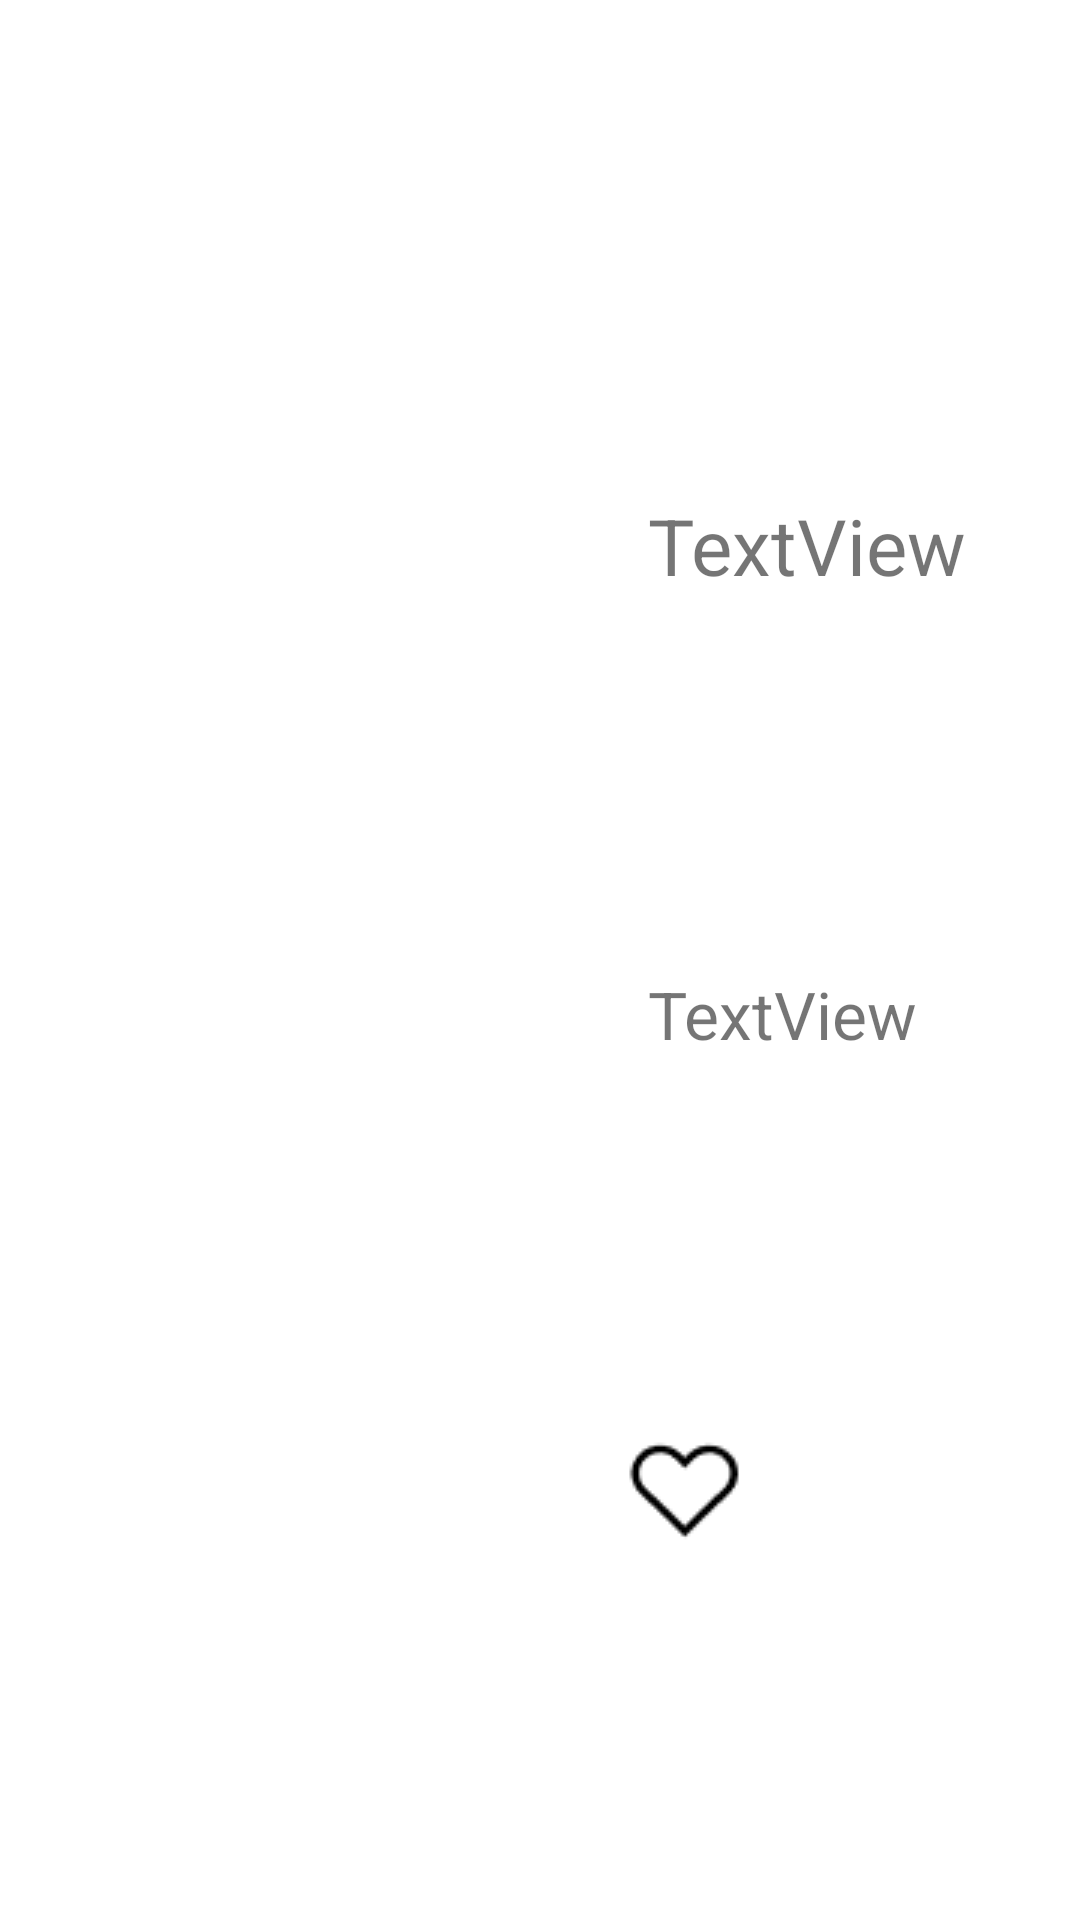

Point at icon controls on the screen. Image size 1080*1920, points as point (x, y).
favorite: point (684, 1490)
